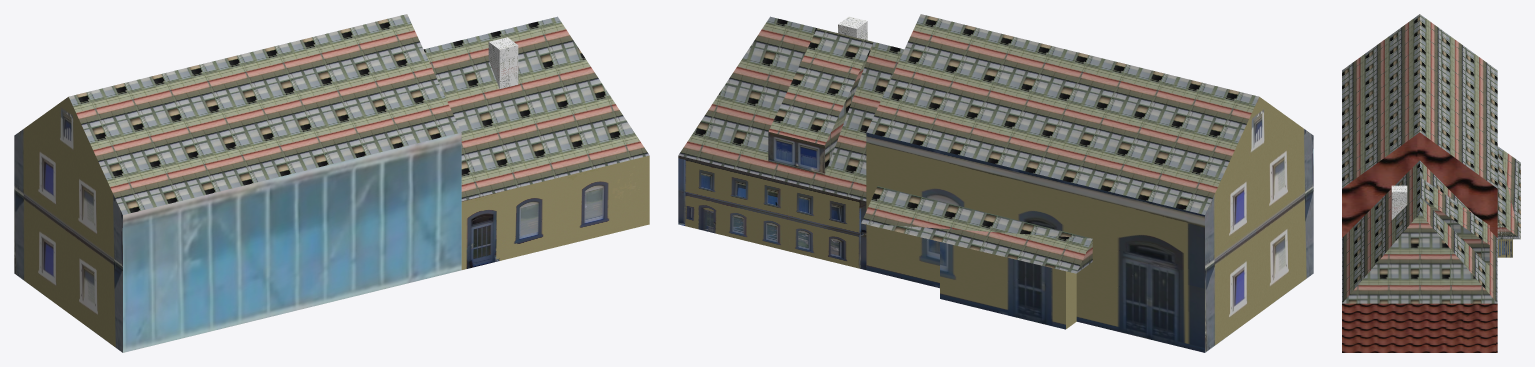
The model's file is KoPf_Reichenau_Empfang_lod3.dae.
3 views of the same model, side by side, from view 1: azimuth 30°, elevation 25°; view 2: azimuth 150°, elevation 25°; view 3: azimuth 270°, elevation 25° (orthographic). The views are drawn at different scales.
Parts seen in each view (by area): view 1: SketchUp (×6); view 2: SketchUp (×8); view 3: SketchUp (×7).
Part boxes in pixels (bbox=[...]): SketchUp (×6): bbox=[14, 14, 649, 352]; SketchUp (×8): bbox=[678, 14, 1313, 352]; SketchUp (×7): bbox=[1342, 14, 1520, 352].
Size of the model in its own units: 1102 by 453 by 433.
